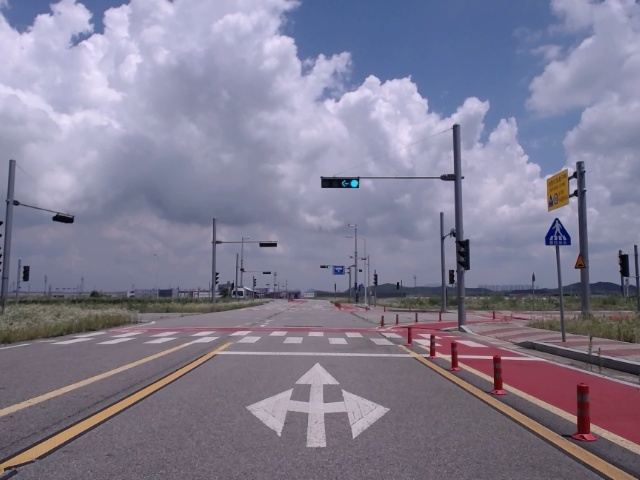all_green_4: (319, 176, 359, 186)
